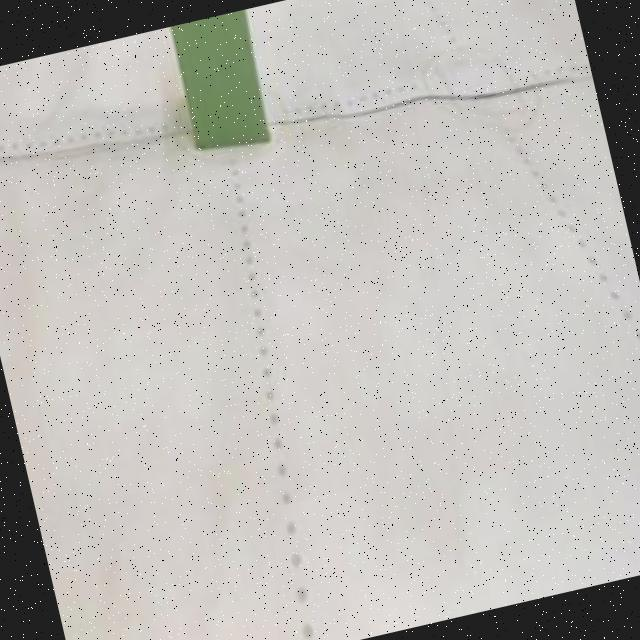greenbox: (162, 8, 285, 172)
